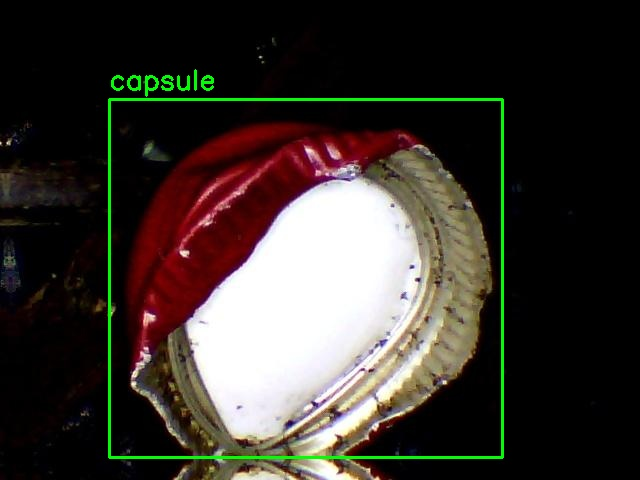capsule: (109, 99, 502, 457)
